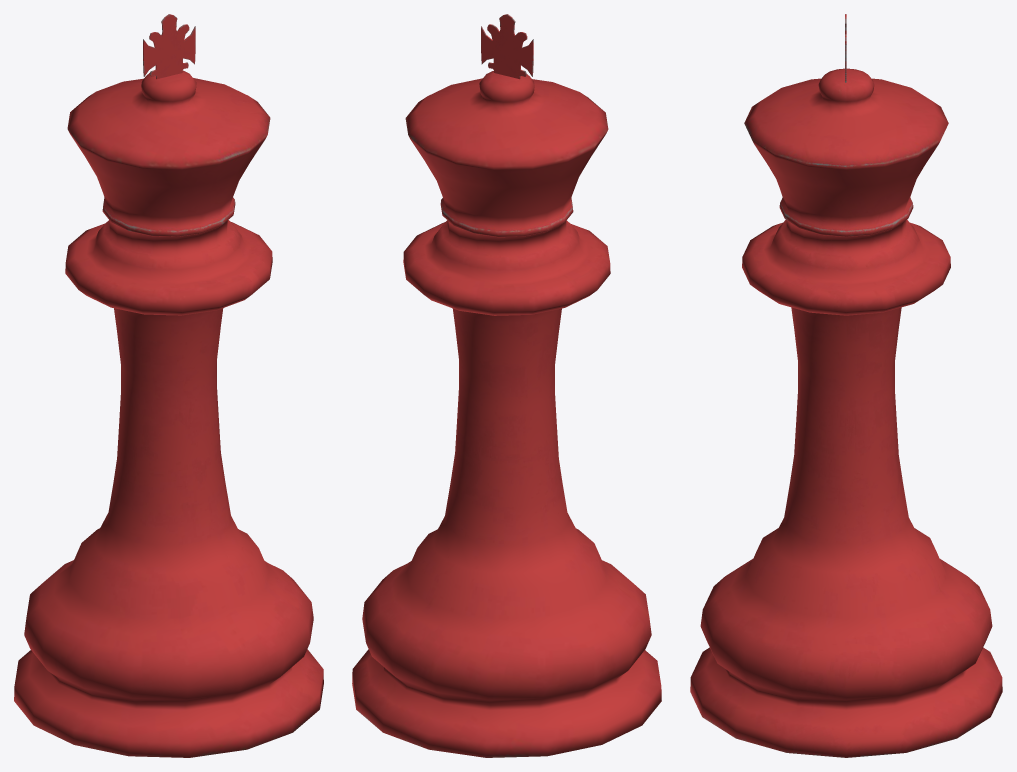
Rendered from king.glb.
The picture shows the model from 3 angles, left to right: view 1: azimuth 30°, elevation 25°; view 2: azimuth 150°, elevation 25°; view 3: azimuth 270°, elevation 25°; orthographic projection.
Parts seen in each view (by area): view 1: king.b.001; view 2: king.b.001; view 3: king.b.001.
Part boxes in pixels (left/top/right/bottom): king.b.001: left=14, top=14, right=323, bottom=757; king.b.001: left=352, top=14, right=661, bottom=757; king.b.001: left=690, top=14, right=1002, bottom=757.
Bounding box in the file's own units: 1.43 × 3.52 × 1.43.
Materials: 1 (1 with a texture image).
